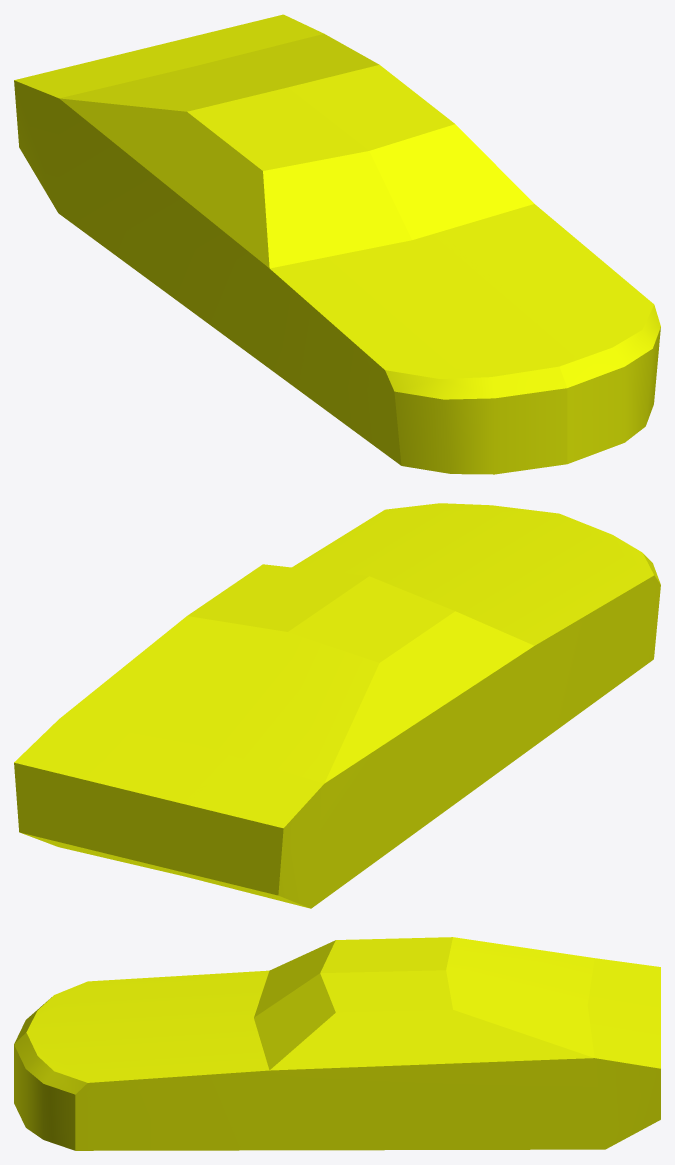
The model's file is Body.fbx.
The picture shows the model from 3 angles, top to bottom: view 1: azimuth 30°, elevation 25°; view 2: azimuth 150°, elevation 25°; view 3: azimuth 270°, elevation 25°; orthographic projection. The views are drawn at different scales.
Parts seen in each view (by area): view 1: Body; view 2: Body; view 3: Body.
Part boxes in pixels (x1,y1,x2,y2): Body: (14,14,660,474); Body: (14,503,660,908); Body: (14,937,660,1150).
Size of what is drawn, in the model's own units: 200 by 122 by 537.
